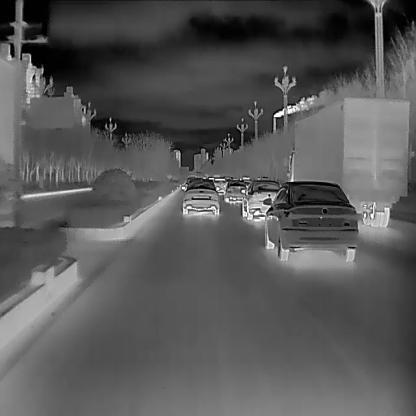car: (264, 179, 357, 261), (241, 180, 282, 221), (180, 179, 220, 216), (222, 179, 248, 203)
truck: (286, 96, 408, 228)
